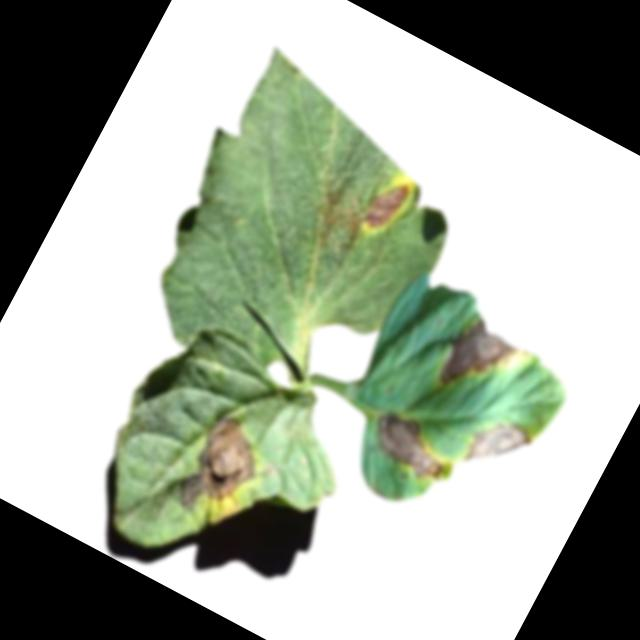Early_blight: (165, 404, 277, 529), (362, 403, 462, 489), (434, 310, 523, 405), (461, 408, 537, 485), (359, 174, 414, 238)
